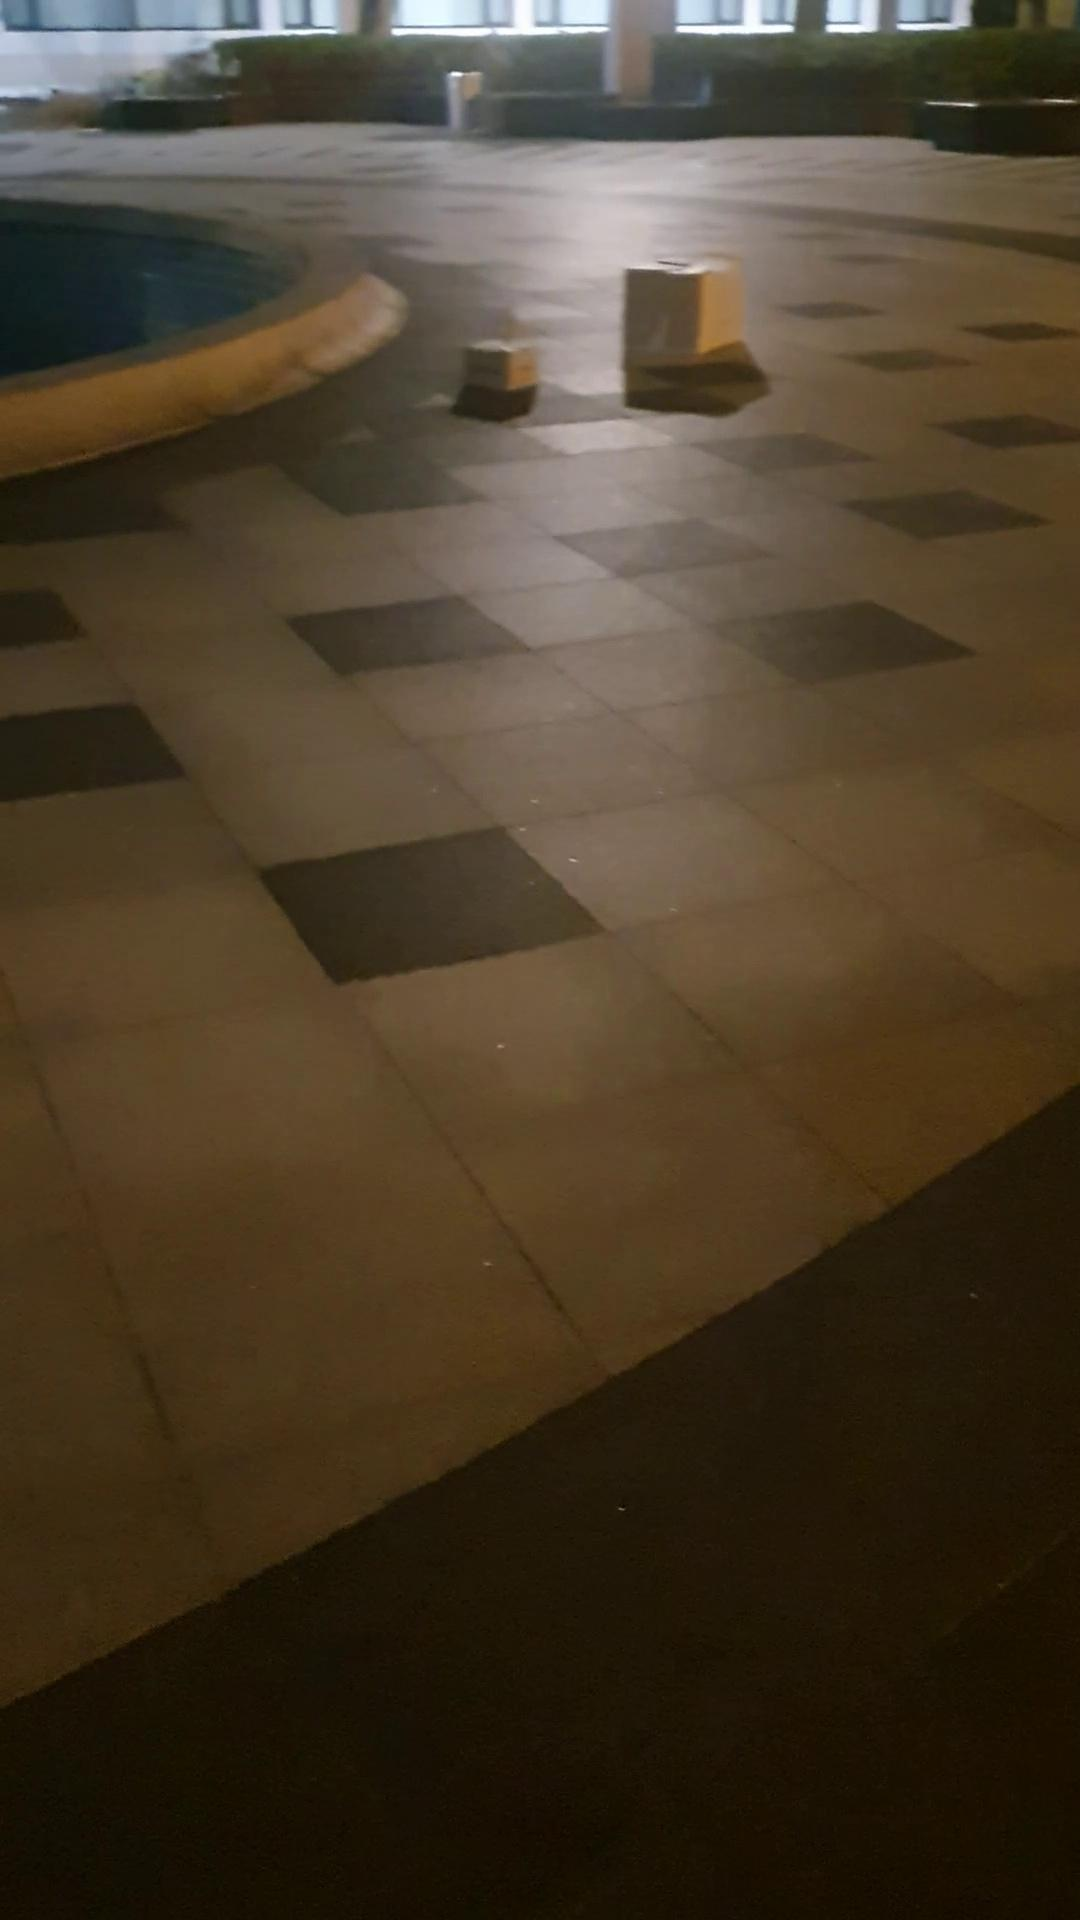Box: (611, 248, 752, 382), (454, 334, 555, 398)
